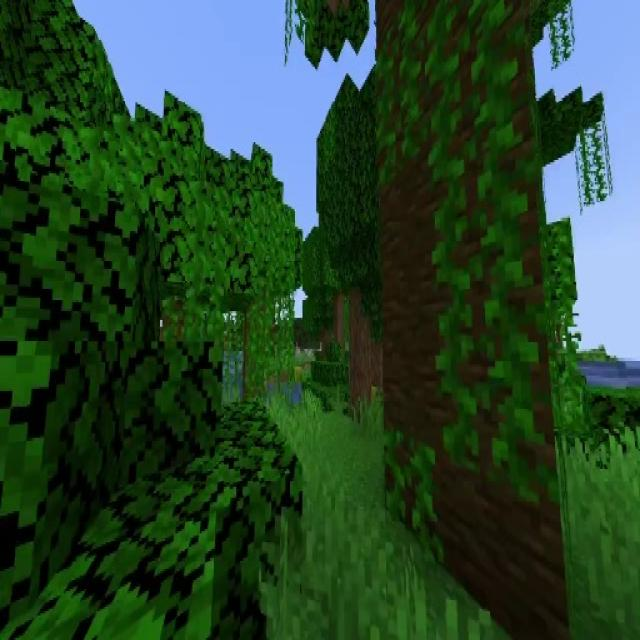jungle: (213, 146, 305, 420)
jungle_log: (378, 6, 568, 640)
oak: (348, 295, 374, 414)
